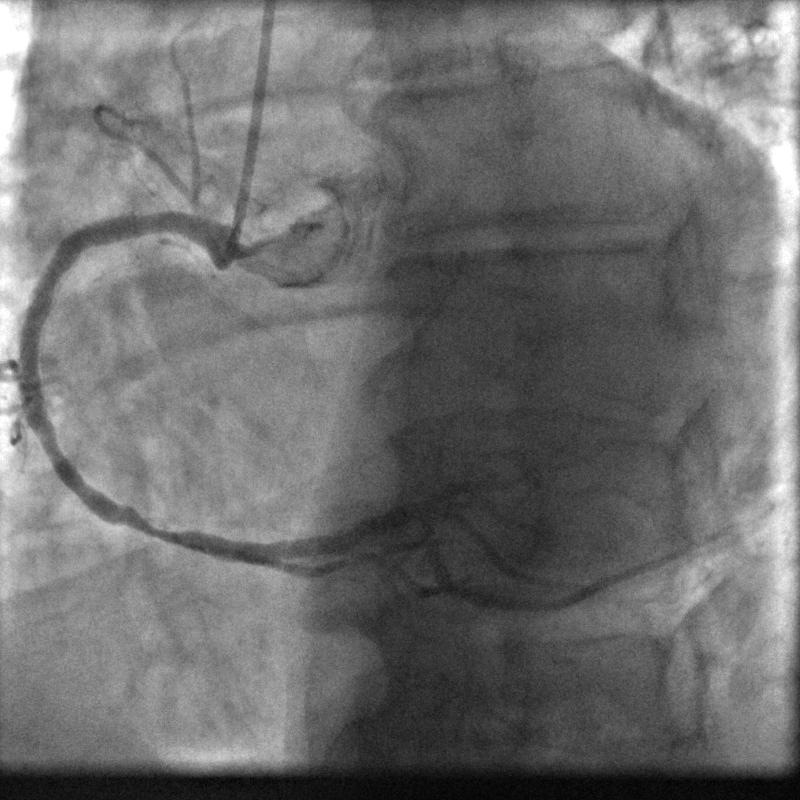Stenosis: (115, 503, 183, 549)
